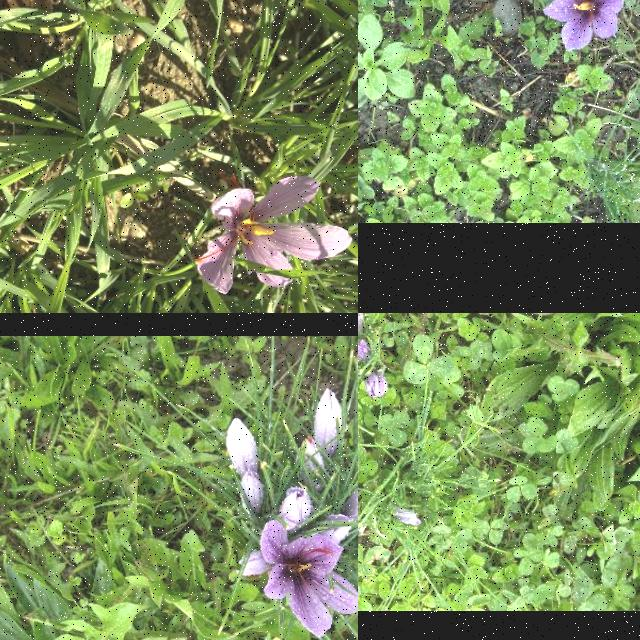flower: (194, 178, 350, 294), (259, 521, 358, 639), (543, 0, 632, 50), (313, 388, 345, 457), (226, 418, 260, 479), (296, 436, 328, 490), (277, 486, 313, 530), (240, 470, 266, 514), (319, 516, 355, 544), (340, 477, 358, 525), (364, 372, 388, 398), (394, 509, 422, 527), (358, 313, 364, 332)
